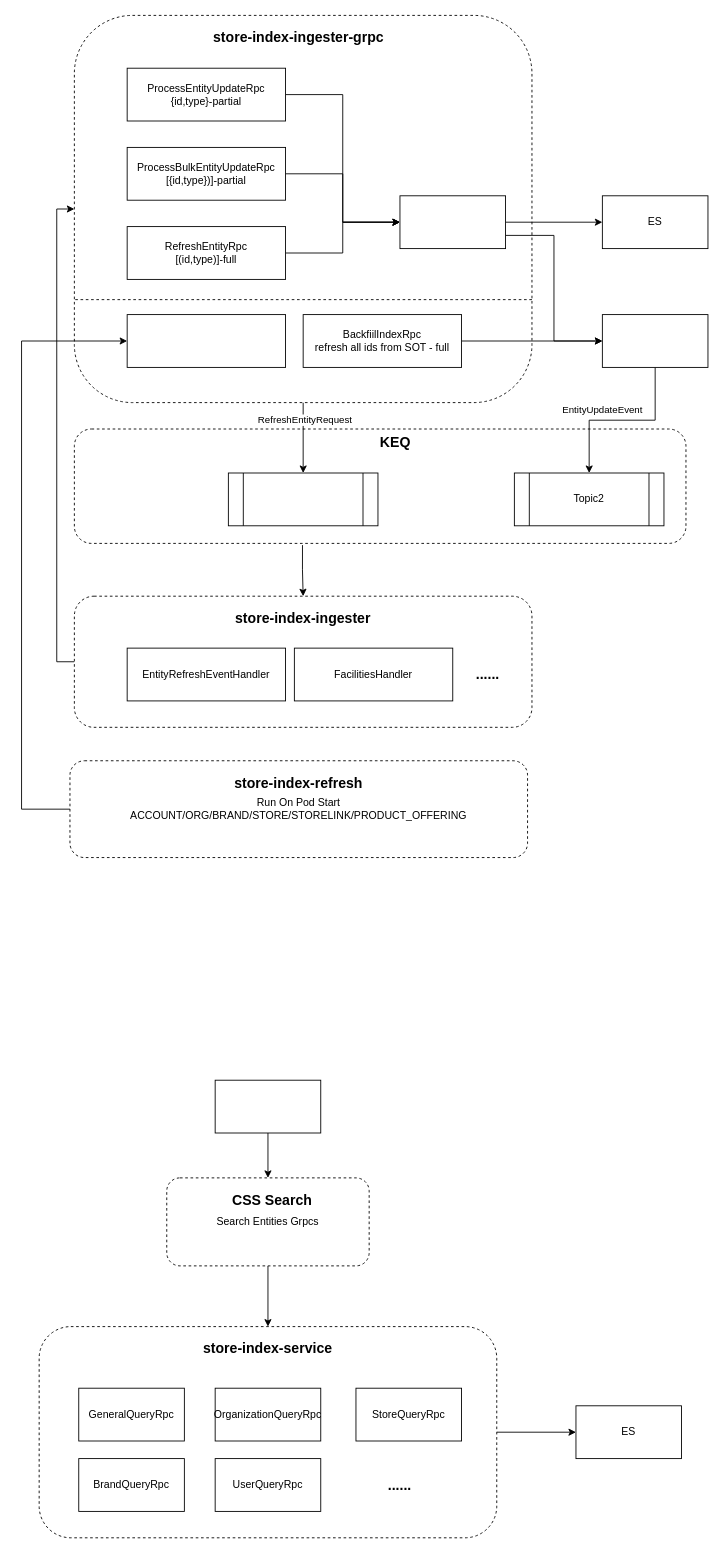
The diagram is 723 pixels wide and 1553 high, and some of its shapes have lost their labels. The shapes that lost their labels are listed below. From the top down, each one's centre as x and y in pixels, then its label:
At point 452,222: "XYZHydrator Input ID -> Output Doc".
At point 206,340: "TriggerRefreshRpc refresh all ids in index - full".
At point 654,340: "source services".
At point 302,499: "Topic1".
At point 267,1106: "Ottergate".
